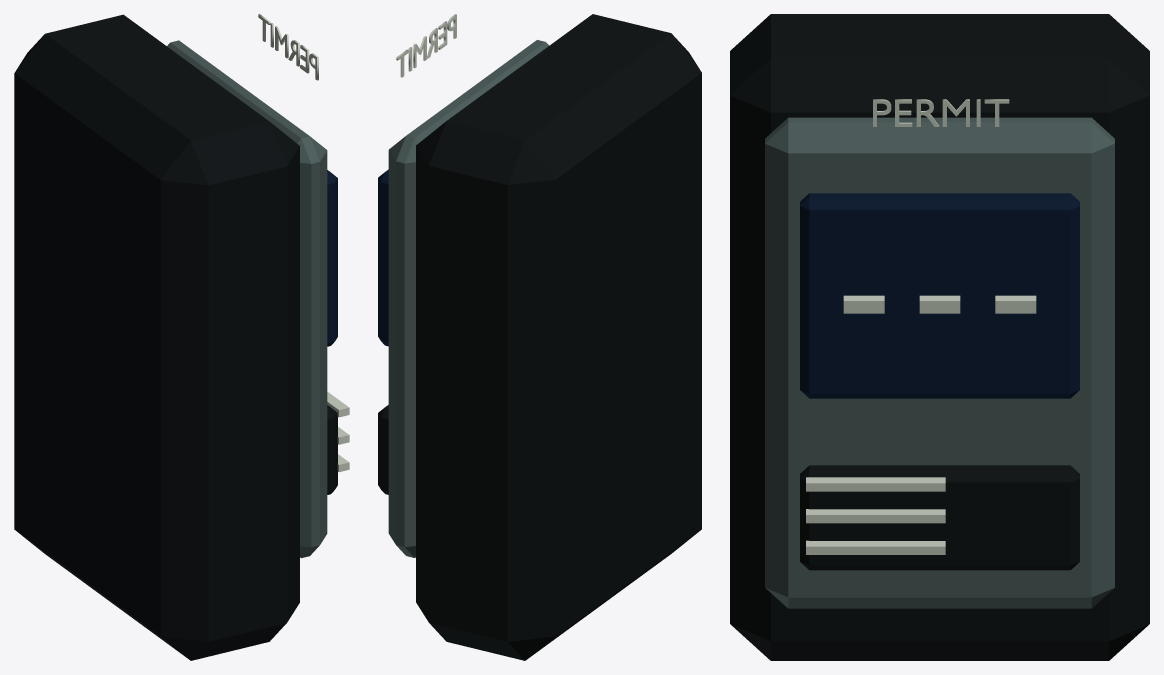
Rendered from SM_MP_Access_Reader.fbx.
3 views of the same model, side by side, from view 1: azimuth 30°, elevation 25°; view 2: azimuth 150°, elevation 25°; view 3: azimuth 270°, elevation 25° (orthographic). The views are drawn at different scales.
Visible parts, largest first — view 1: SM_MP_Access_Reader; view 2: SM_MP_Access_Reader; view 3: SM_MP_Access_Reader.
Boxes of the visible parts, x1,y1,x2,y2 form: SM_MP_Access_Reader: [14, 14, 349, 660]; SM_MP_Access_Reader: [378, 14, 701, 660]; SM_MP_Access_Reader: [730, 14, 1149, 660].
Bounding box in the file's own units: 23.4 × 36 × 58.02.
1 material, 1 textured.
